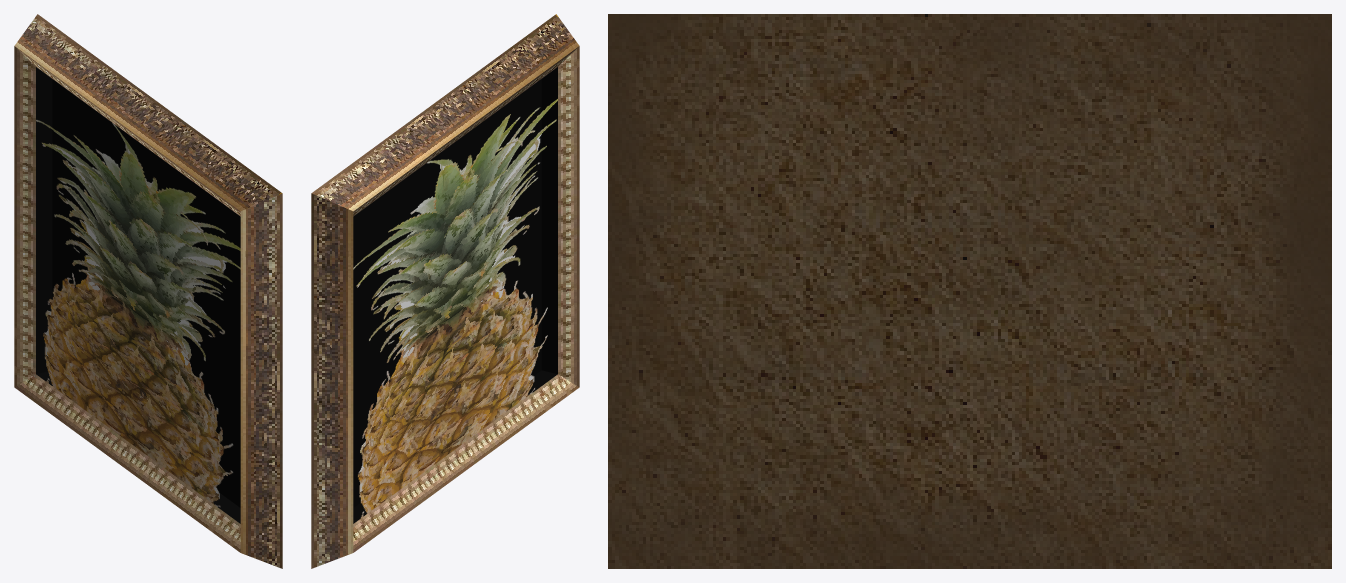
Rendered from ananas photo 0.1.glb.
The picture shows the model from 3 angles, left to right: view 1: azimuth 30°, elevation 25°; view 2: azimuth 150°, elevation 25°; view 3: azimuth 270°, elevation 25°; orthographic projection. The views are drawn at different scales.
Parts seen in each view (by area): view 1: frame, picture; view 2: frame, picture; view 3: frame.
Boxes of the visible parts, x1,y1,x2,y2 form: frame: (14, 14, 282, 568); picture: (36, 119, 240, 507); frame: (311, 14, 579, 568); picture: (353, 99, 557, 518); frame: (608, 14, 1331, 568).
Size of the model in its own units: 0.125 by 1.38 by 1.62.
2 materials, 2 textured.
